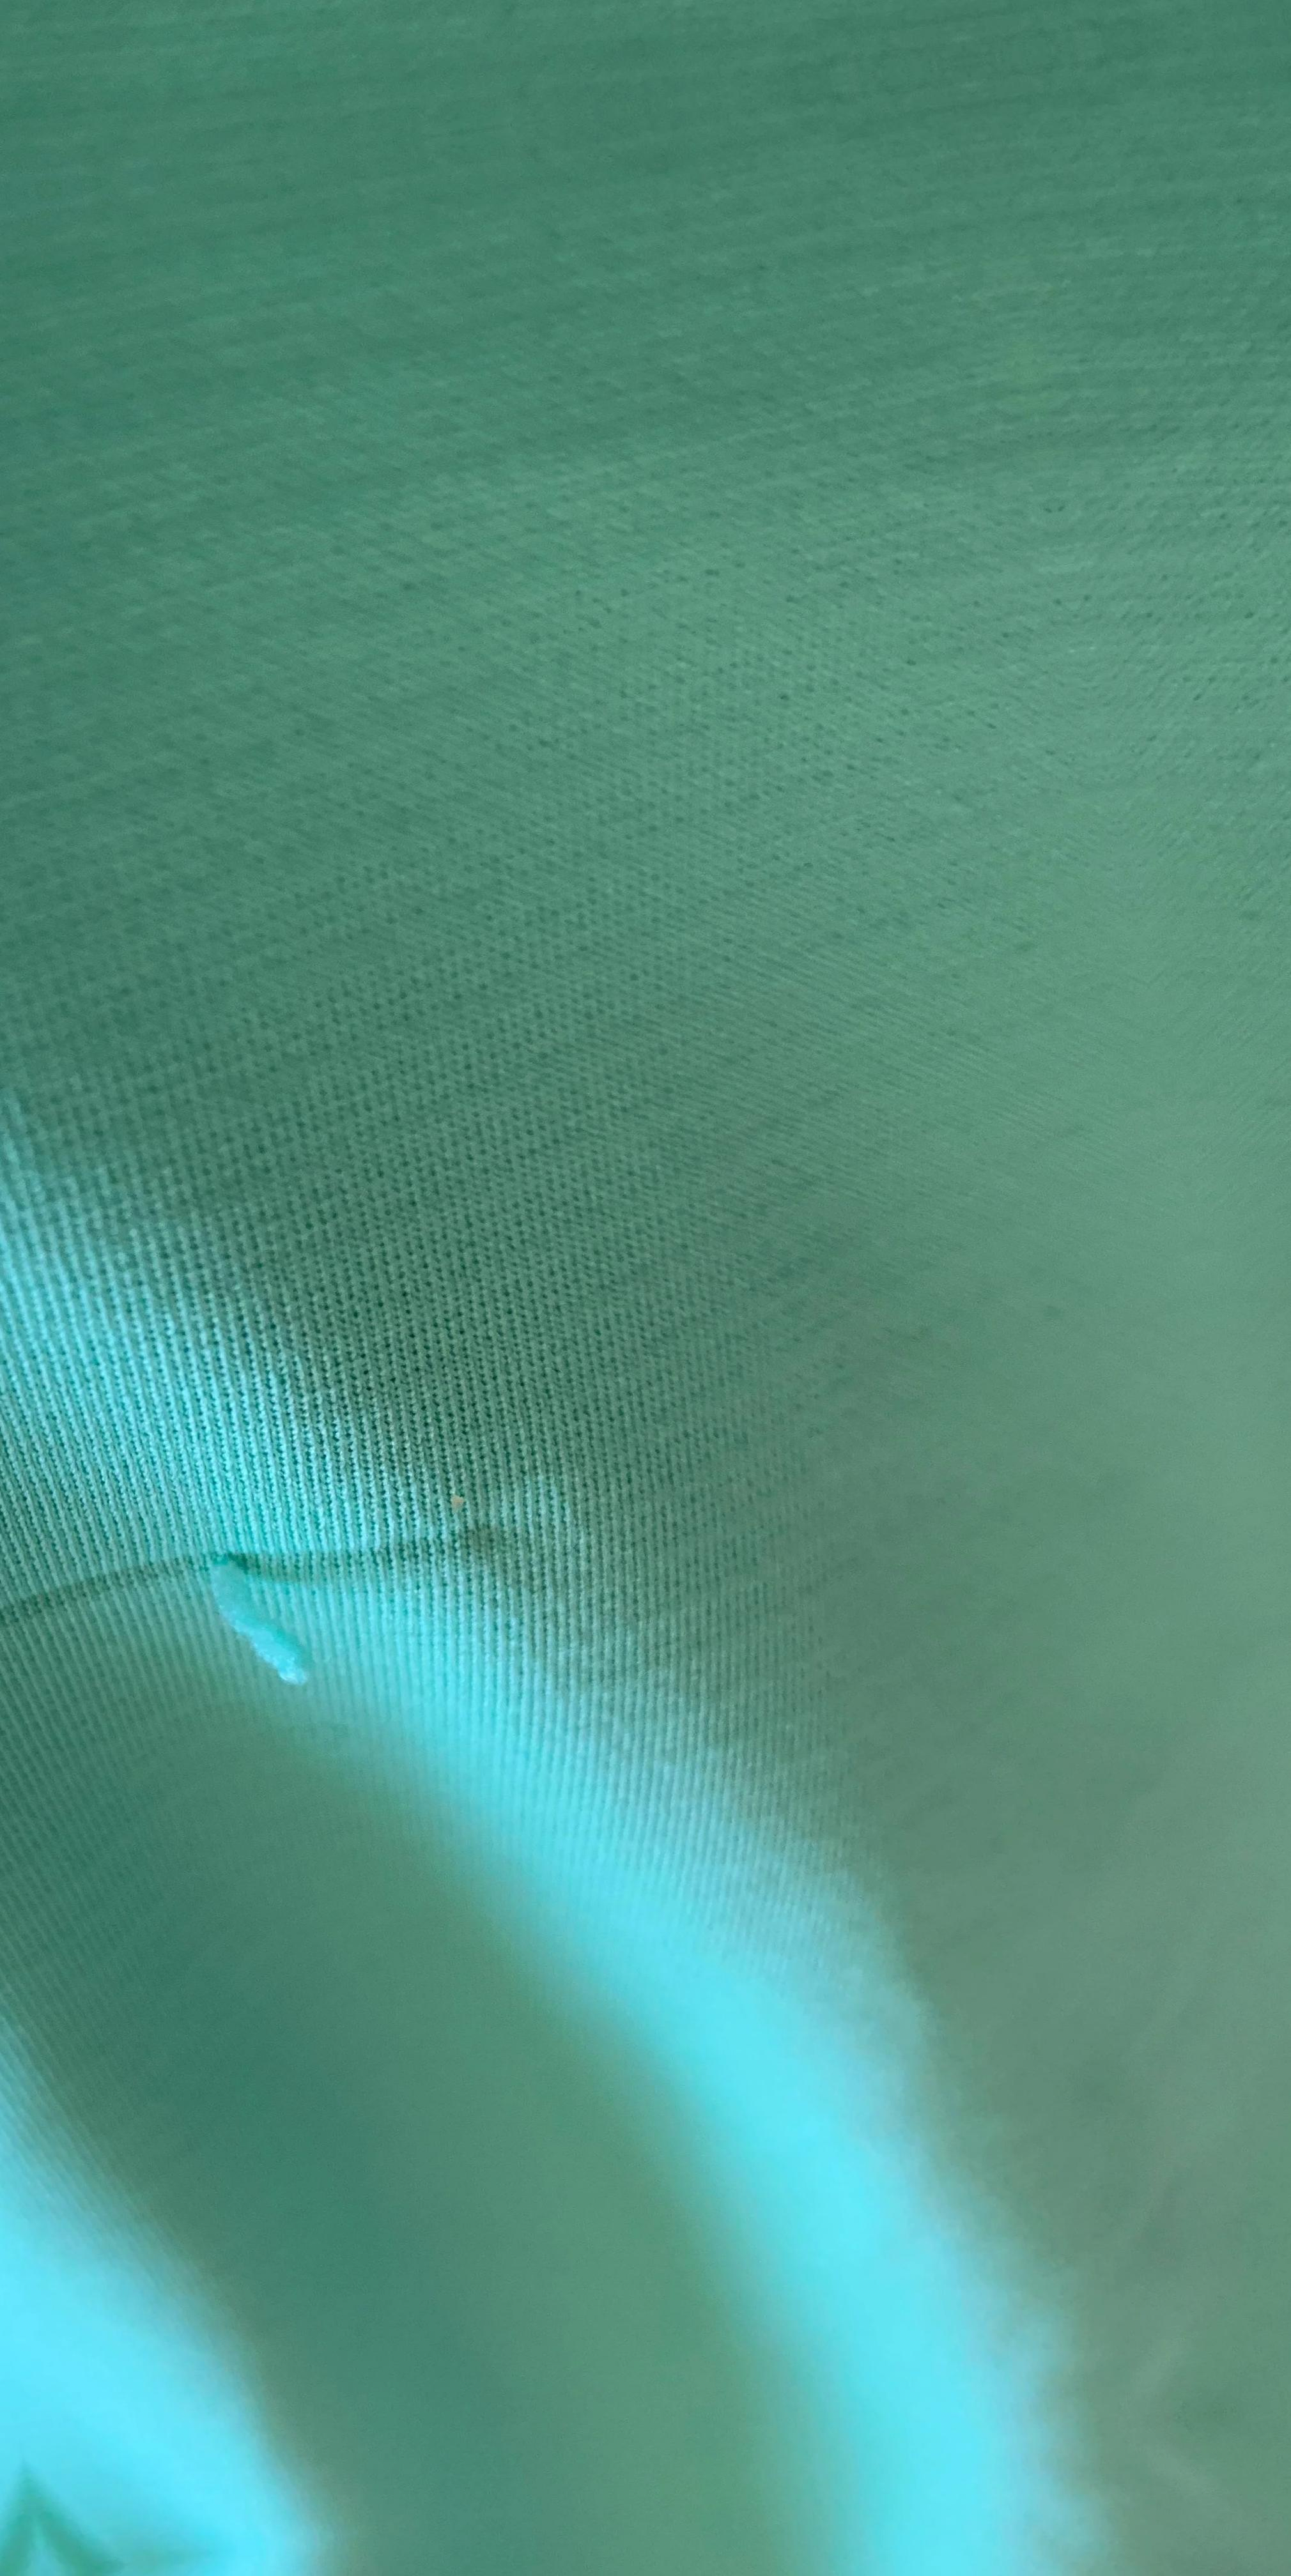snag: (120, 1491, 410, 1727)
